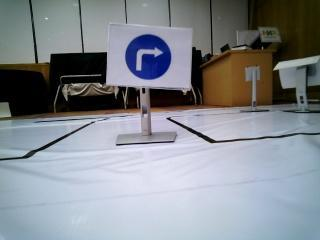right: (110, 20, 185, 85)
